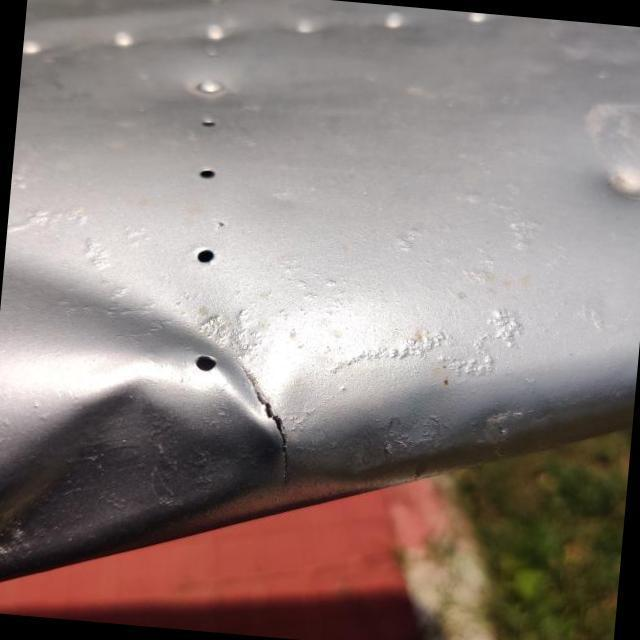Missing Fastener: (174, 328, 222, 378), (178, 234, 222, 274), (190, 109, 228, 131), (190, 155, 218, 177)
dent: (0, 362, 264, 558), (593, 133, 639, 197)
